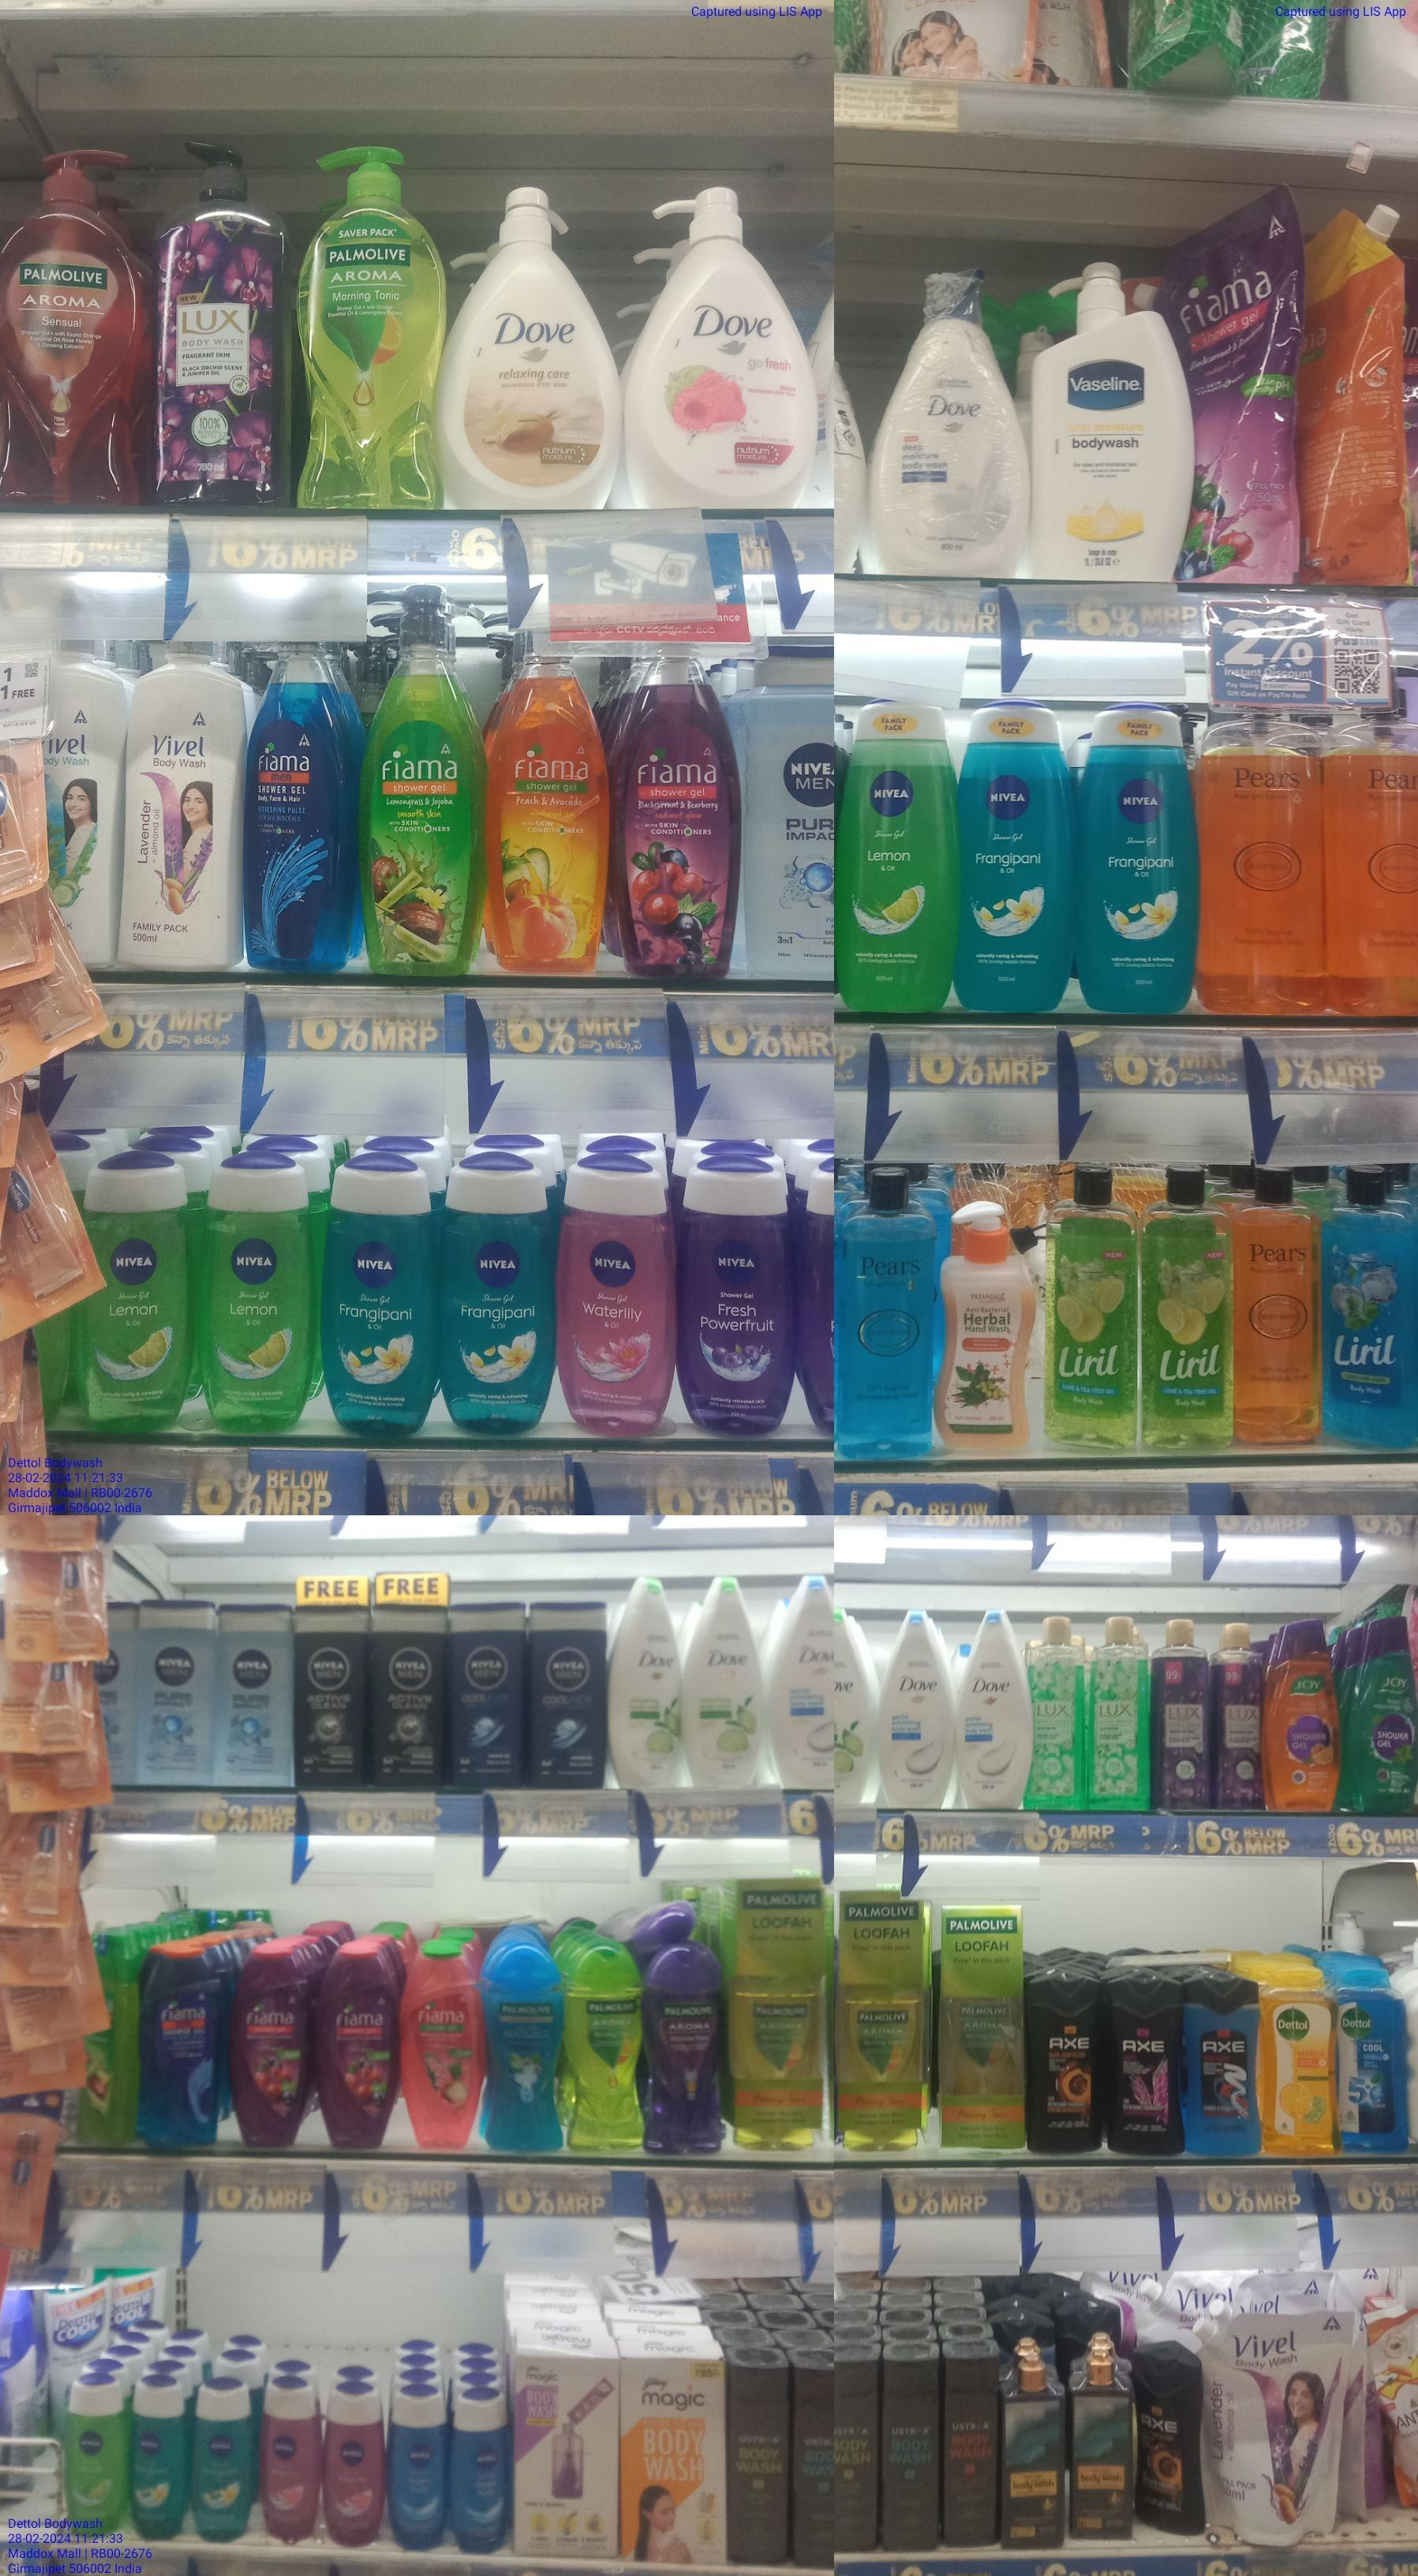Dettol_Bodywash_Cool: (1339, 1961, 1415, 2157)
Dettol_Bodywash_Refresh: (1259, 1949, 1334, 2159)
Dove_Gentle_Exfoliating_Body_Wash_250ML: (763, 1568, 835, 1790), (955, 1607, 1025, 1818), (878, 1608, 948, 1808)
Dove_Refreshing_Body_Wash_250ML: (608, 1575, 681, 1794), (683, 1572, 758, 1781)
Fiama_Shower_Gel_Patchouli_and_Macadamia_250ML: (407, 1944, 480, 2155)
Joy_Shower_Gel_Mandarin_and_Lemongrass_250ML: (1264, 1608, 1339, 1815)
Joy_Shower_Gel_Mint_and_Eucalyptus_250ML: (1348, 1615, 1418, 1822)
Liril_Cooling_Mint_Body_Wash_250ML: (1317, 1167, 1418, 1451)
Liril_Lime_and_Tea_Tree_Oil_Body_Wash_250ML: (1144, 1156, 1235, 1460), (1051, 1168, 1130, 1453)
Lux_Black_Orchid_Scent_and_Juniper_Oil_Body_Wash_245ML: (1154, 1617, 1214, 1815), (1217, 1621, 1263, 1813)
Lux_Body_Wash_Skin_Detox_Freesia_Scent_and_Alove_Vera_245ML: (1091, 1608, 1149, 1816), (1030, 1614, 1086, 1811)
Nivea_Shower_Gel_Frangipani_and_Oil_250ML: (1083, 704, 1196, 1020), (960, 700, 1072, 1018), (442, 1156, 555, 1441), (328, 1156, 431, 1439)
Nivea_Shower_Gel_Fresh_Powerfruit_250ML: (685, 1154, 796, 1436)
Nivea_Shower_Gel_Lemon_and_Oil_250ML: (842, 695, 952, 1018), (72, 1151, 187, 1439), (197, 1158, 311, 1437)
Nivea_Shower_Gel_Waterlily_and_Oil_250ML: (555, 1154, 672, 1437)
Palmolive_Aroma_Moments_Feel_The_Massage_Shower_Gel_250ML: (491, 1947, 562, 2159)
Palmolive_Aroma_Morning_Tonic_Shower_Gel_250ML: (571, 1947, 641, 2155)
Palmolive_Aroma_Relax_250ML: (646, 1944, 726, 2162)
Pears_Pure_Glycerin_and_Mint_Extracts_Body_Wash_250ML: (843, 1163, 931, 1465)
